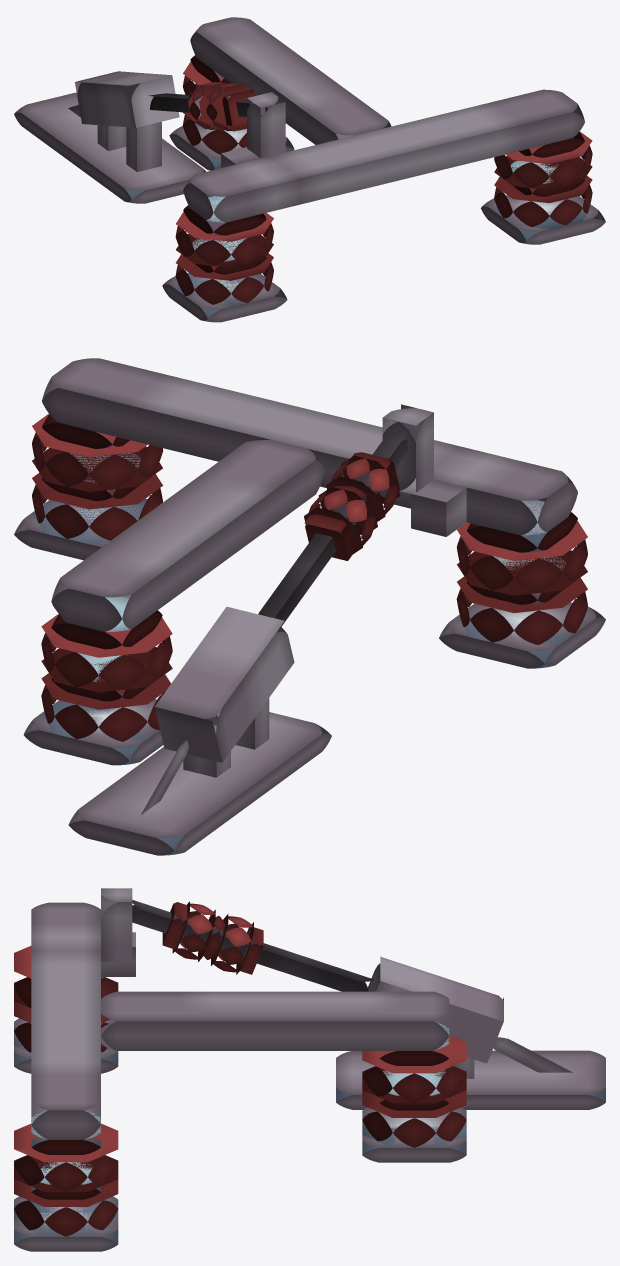
Rendered from hxd3d_panto_base.obj.
3 views of the same model, one above another, from view 1: azimuth 30°, elevation 25°; view 2: azimuth 150°, elevation 25°; view 3: azimuth 270°, elevation 25° (orthographic). The views are drawn at different scales.
Visible parts, largest first — view 1: cube.005; view 2: cube.005; view 3: cube.005.
Part boxes in pixels (x1=…): cube.005: x1=14, y1=17, x2=605, y2=322; cube.005: x1=14, y1=358, x2=605, y2=855; cube.005: x1=14, y1=888, x2=605, y2=1251.
Bounding box in the file's own units: 1 × 0.4022 × 1.12.
